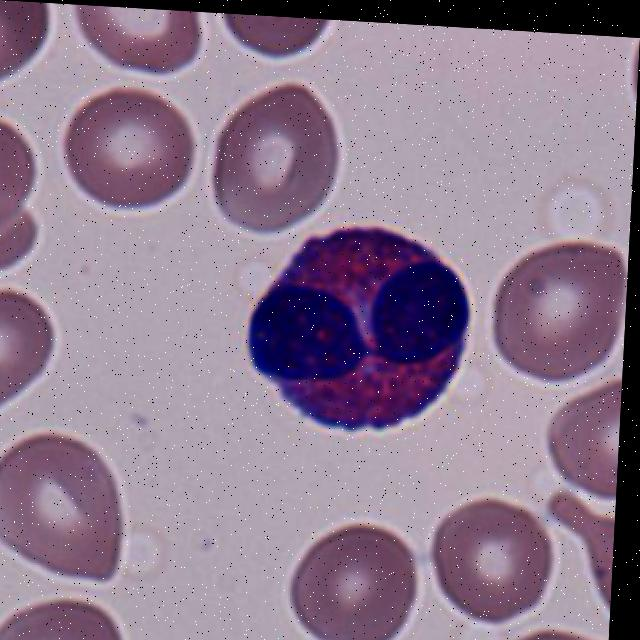eosinophil: (249, 229, 479, 437)
rbc: (476, 238, 625, 393), (201, 88, 346, 245), (0, 424, 137, 585), (56, 94, 196, 218), (288, 520, 430, 640), (418, 503, 549, 630), (79, 5, 217, 83), (0, 284, 67, 438), (547, 372, 622, 502), (207, 12, 346, 81), (0, 106, 62, 250), (0, 586, 156, 640), (0, 207, 60, 293), (0, 0, 53, 93), (488, 623, 609, 640)
